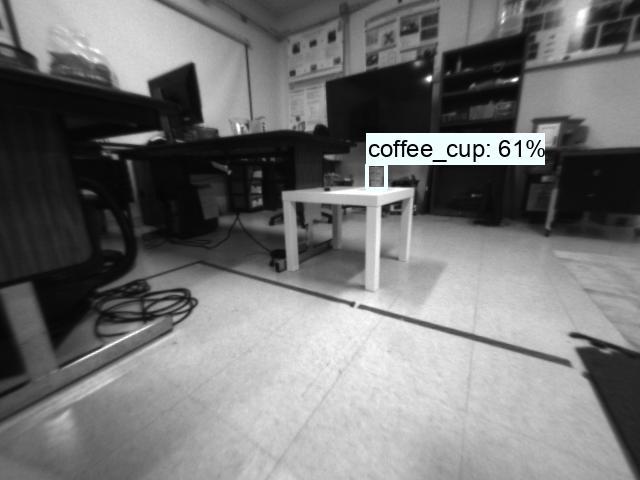coffee_cup: (365, 164, 385, 189)
